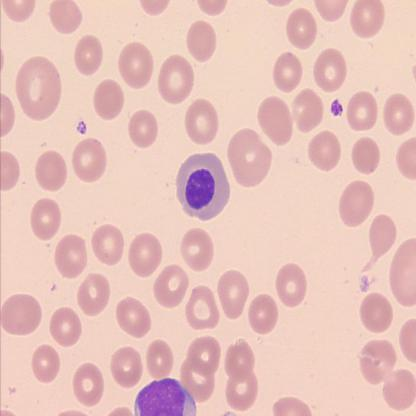NRC: (174, 151, 232, 222)
